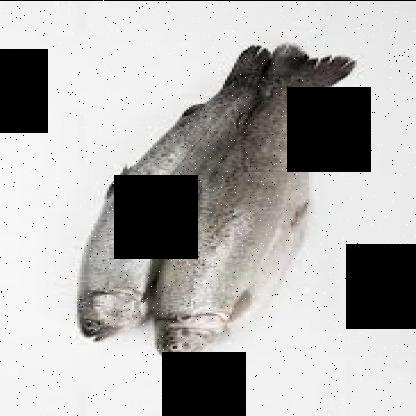fish: (144, 50, 354, 366), (72, 47, 296, 343)
